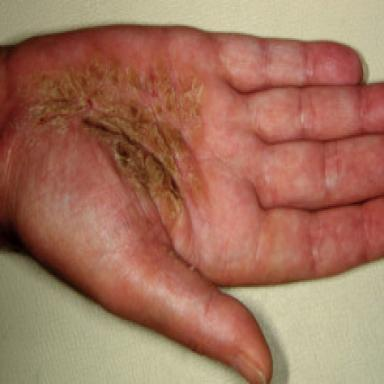eczema: (15, 59, 209, 231)
